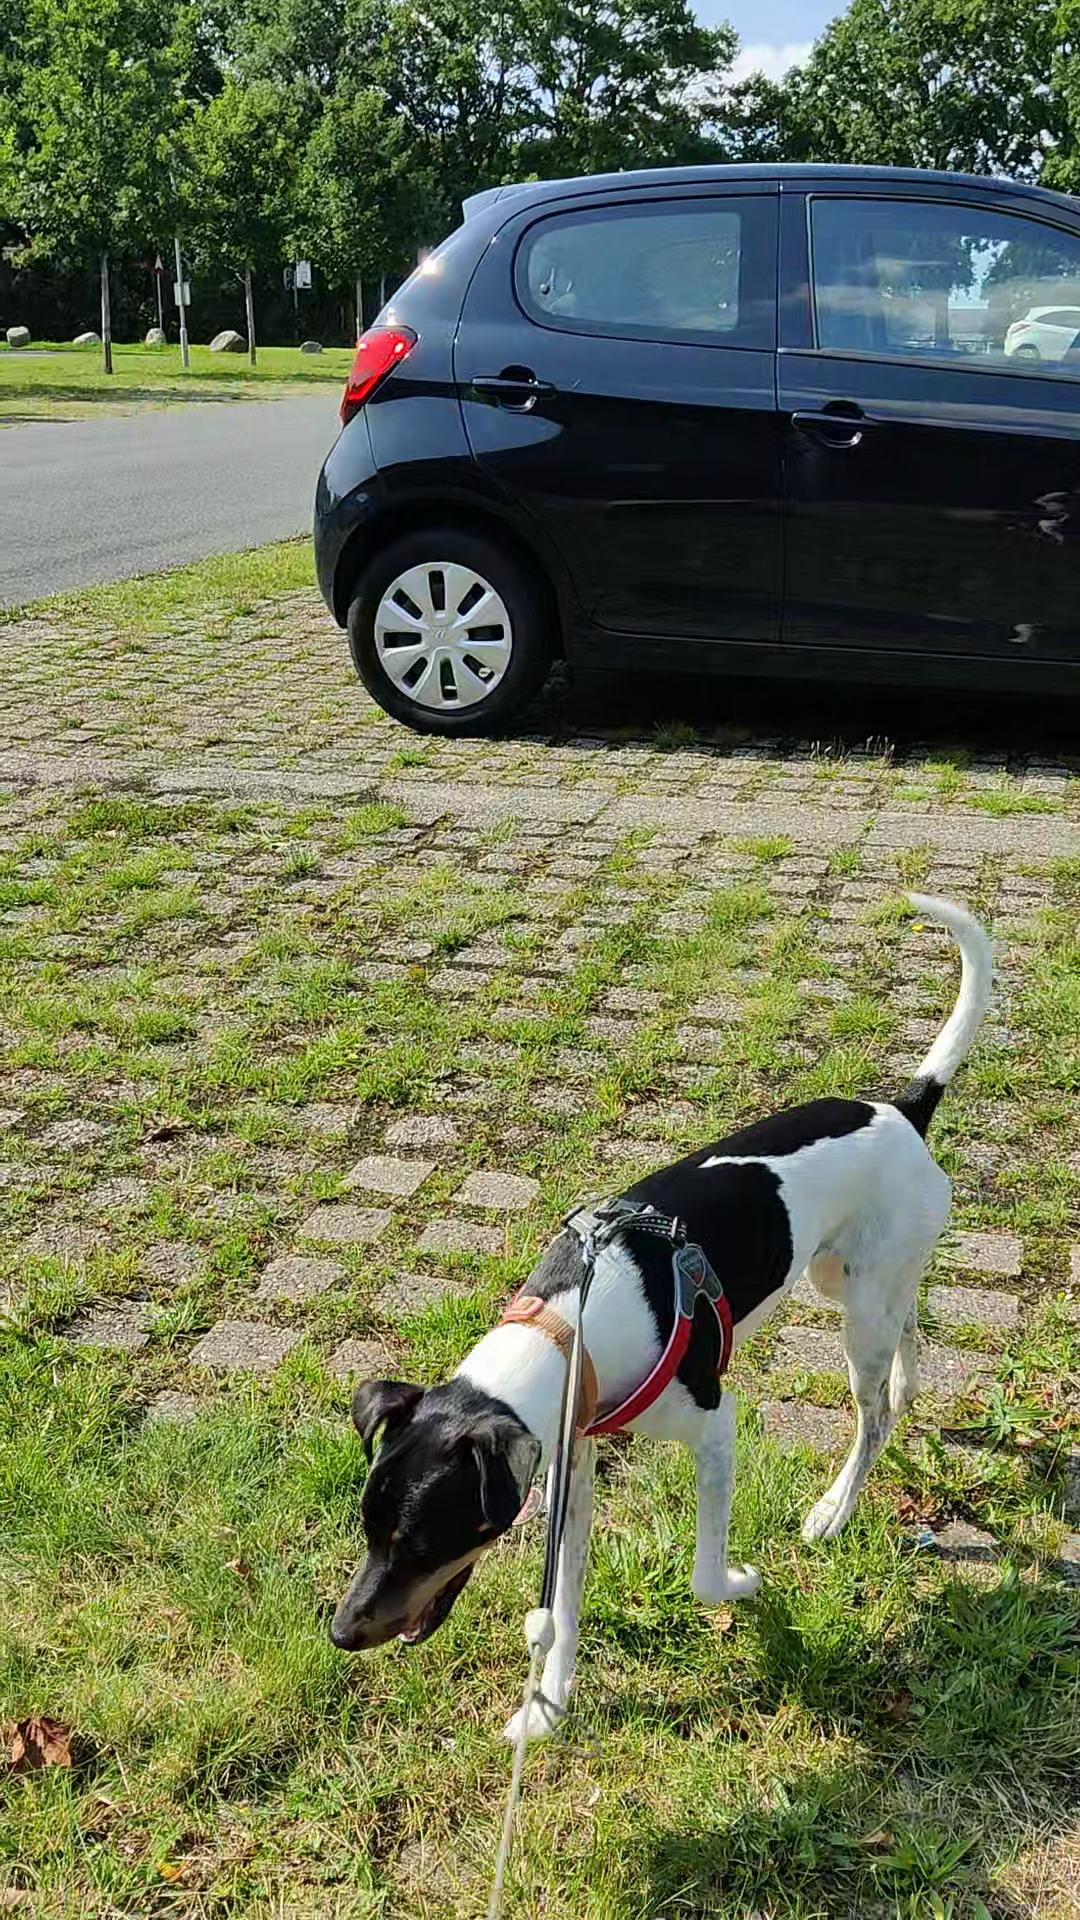Dog: (324, 887, 1000, 1749)
